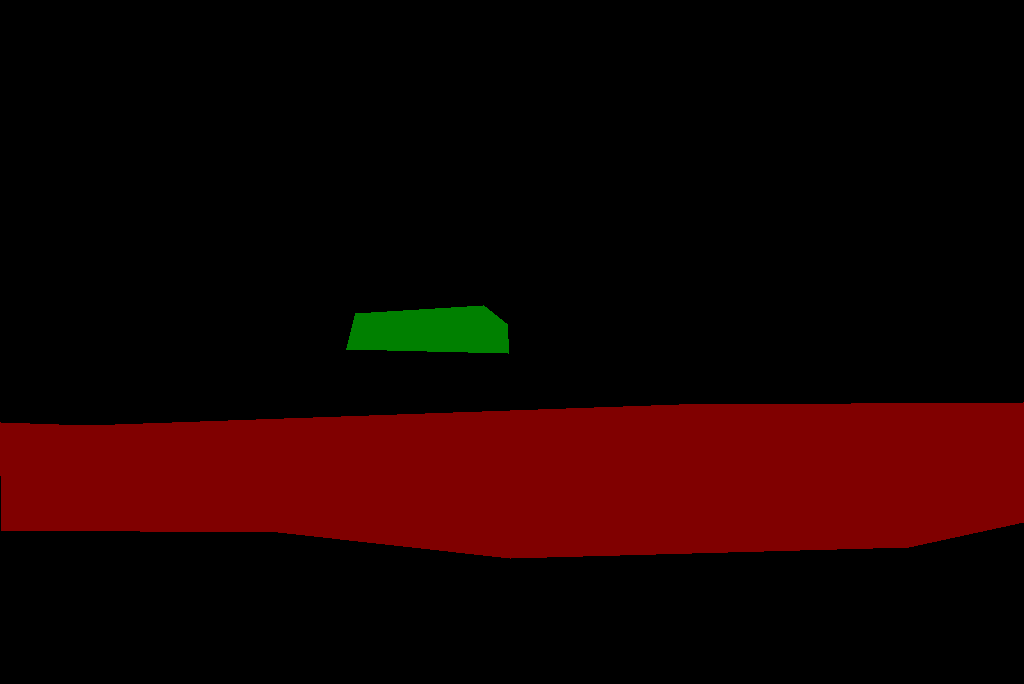fire: (0, 402, 1023, 558), (346, 305, 508, 353)
